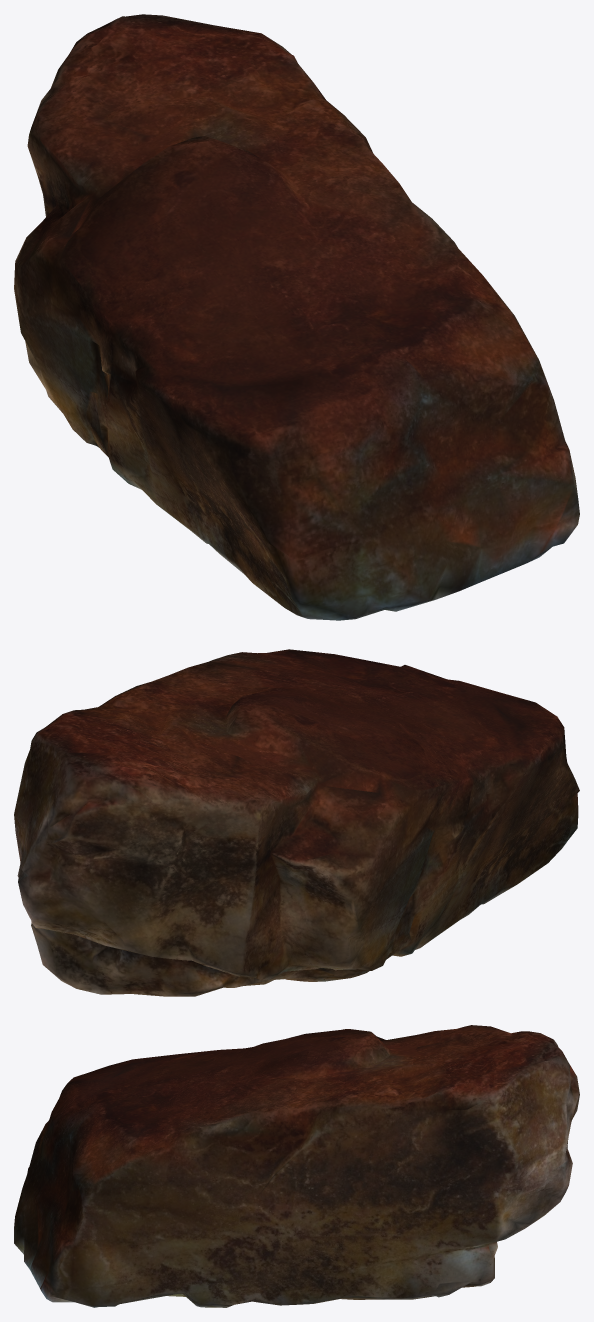
File: rock_07.glb
3 views of the same model, one above another, from view 1: azimuth 30°, elevation 25°; view 2: azimuth 150°, elevation 25°; view 3: azimuth 270°, elevation 25° (orthographic). The views are drawn at different scales.
Size of the model in its own units: 0.1681 by 0.1437 by 0.3198.
1 material, 1 textured.
